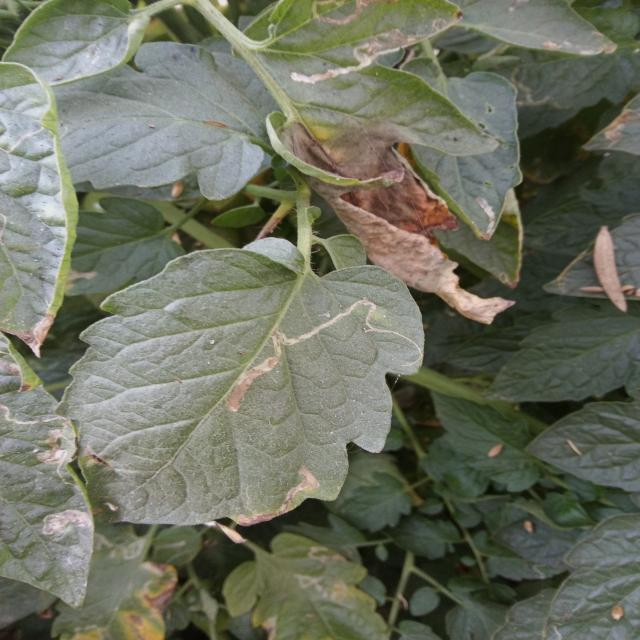Tuta absoluta: (207, 292, 393, 414), (289, 24, 419, 95), (235, 464, 321, 540)
